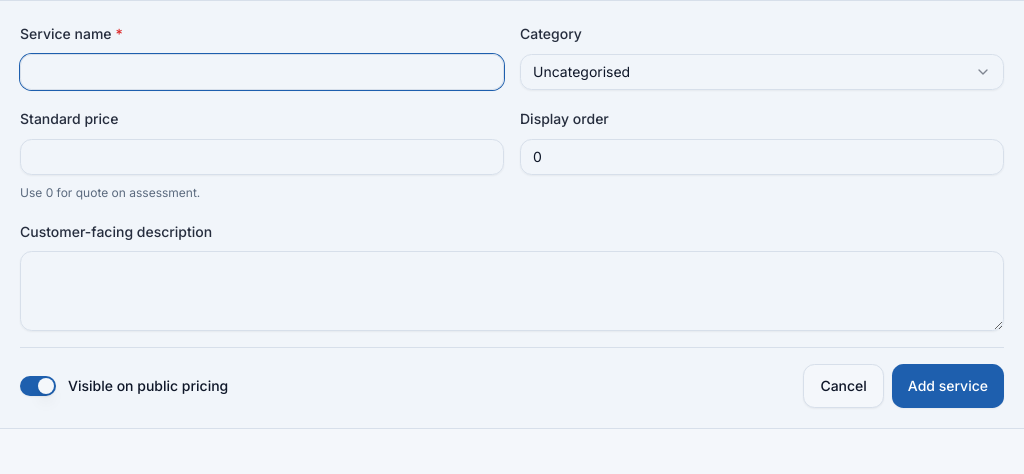
Test case: ServiceItemEditor › validates required service details
The image size is (1024, 474).
Click the button "Add service". click: click(948, 386)
box: [892,364,1004,408]
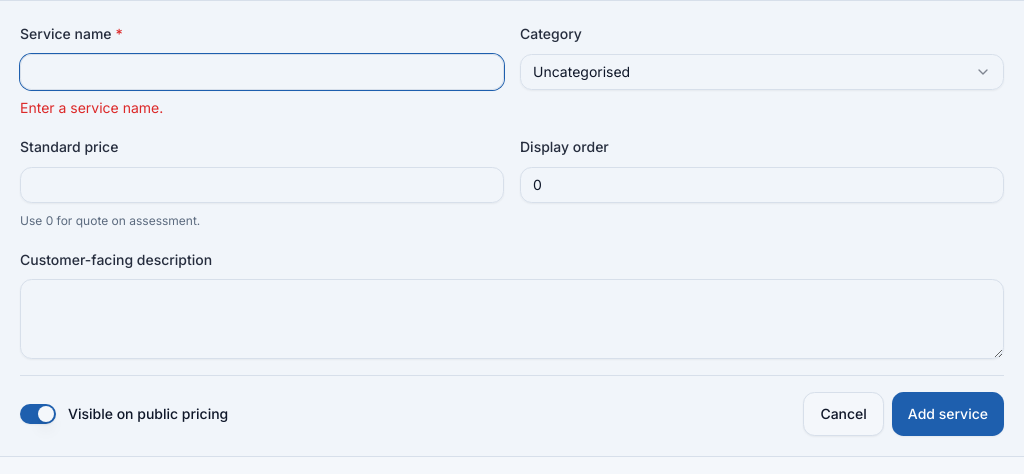
Now the message shows "Enter a service name", box [20,99,163,116]
